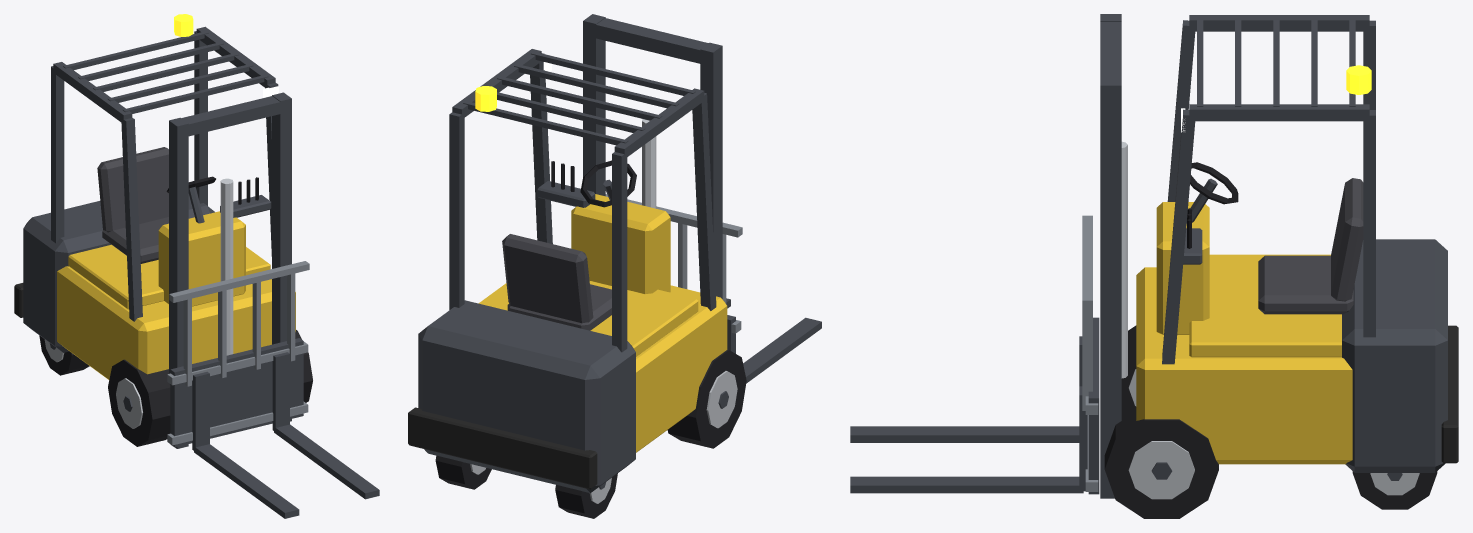
File: Forklift_Electric_Market.fbx
3 views of the same model, side by side, from view 1: azimuth 30°, elevation 25°; view 2: azimuth 150°, elevation 25°; view 3: azimuth 270°, elevation 25° (orthographic). The views are drawn at different scales.
Parts seen in each view (by area): view 1: Forklift_Electric_Market, Forklift_Electric_Market_Fork; view 2: Forklift_Electric_Market, Forklift_Electric_Market_Fork; view 3: Forklift_Electric_Market, Forklift_Electric_Market_Fork.
Part boxes in pixels (box(x1,y1,x2,y2)): Forklift_Electric_Market: box(14, 14, 312, 448); Forklift_Electric_Market_Fork: box(167, 261, 379, 518); Forklift_Electric_Market: box(408, 14, 746, 518); Forklift_Electric_Market_Fork: box(605, 194, 821, 383); Forklift_Electric_Market: box(1100, 14, 1458, 518); Forklift_Electric_Market_Fork: box(850, 215, 1099, 494).
Size of the model in its own units: 1.16 by 2.24 by 2.87.
Materials: 1 (1 with a texture image).
